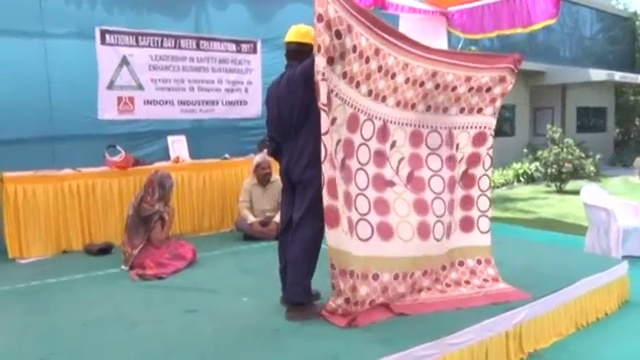helmet: (284, 20, 314, 45)
helmet_off: (144, 170, 174, 202), (253, 154, 274, 186)
helmet_on: (283, 19, 317, 65)
person: (265, 20, 331, 321), (122, 168, 196, 281), (232, 147, 285, 239)
